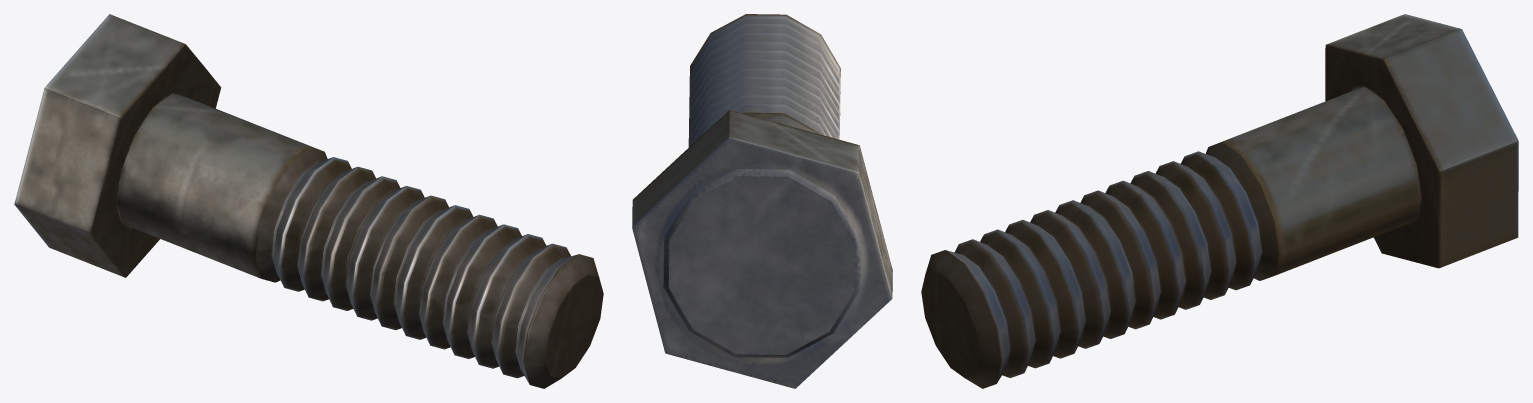
The model's file is bolt.fbx.
3 views of the same model, side by side, from view 1: azimuth 30°, elevation 25°; view 2: azimuth 150°, elevation 25°; view 3: azimuth 270°, elevation 25° (orthographic). The views are drawn at different scales.
Parts seen in each view (by area): view 1: Bolt; view 2: Bolt; view 3: Bolt.
Part boxes in pixels (<box>): Bolt: <box>14,14,603,388</box>; Bolt: <box>632,14,892,388</box>; Bolt: <box>921,14,1518,388</box>.
Bounding box in the file's own units: 0.0748 × 0.0451 × 0.0977.
